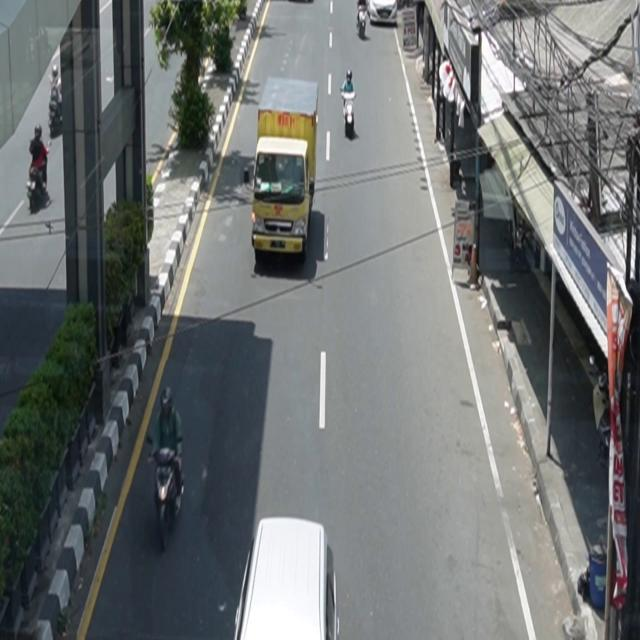car: (234, 517, 341, 640)
truck: (244, 76, 320, 264)
